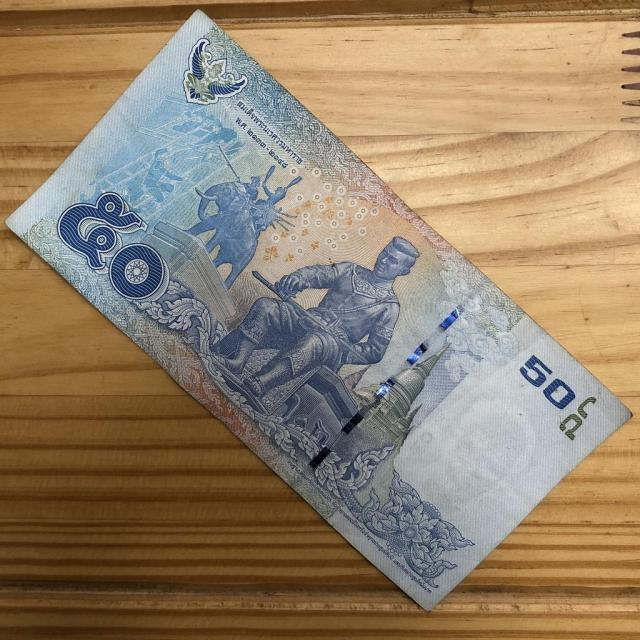THAI50: (7, 10, 632, 613)
